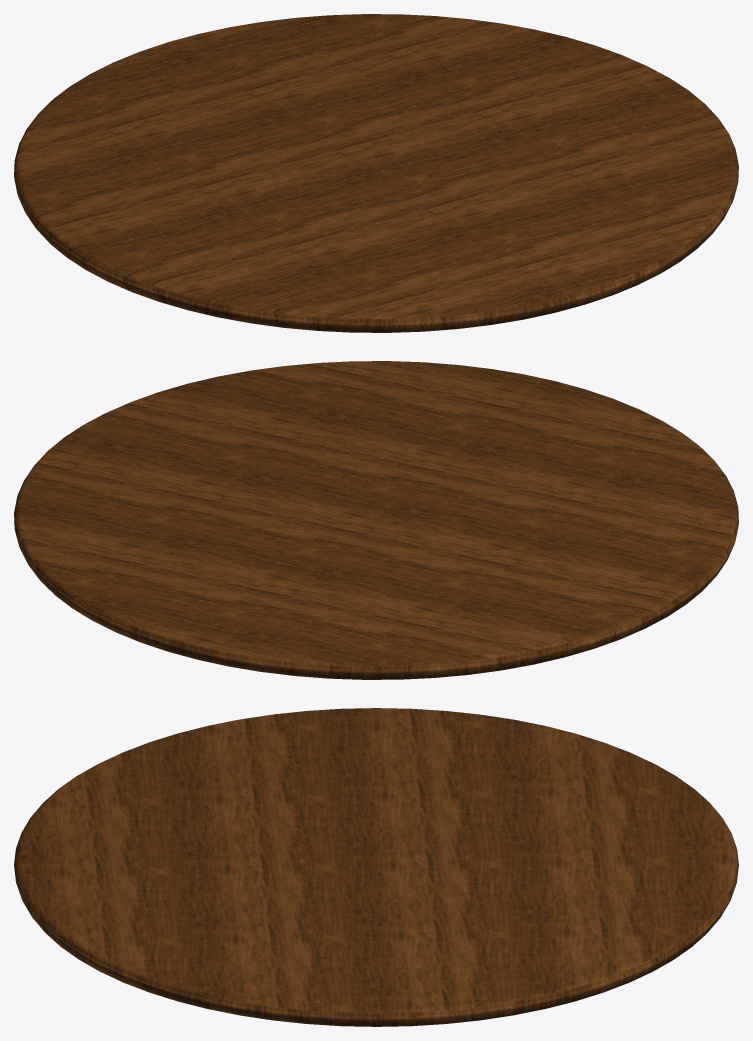
File: floor-01.glb
The picture shows the model from 3 angles, top to bottom: view 1: azimuth 30°, elevation 25°; view 2: azimuth 150°, elevation 25°; view 3: azimuth 270°, elevation 25°; orthographic projection.
Visible parts, largest first — view 1: StandTop; view 2: StandTop; view 3: StandTop.
Boxes of the visible parts, box(x1,y1,x2,y2) form: StandTop: box(14, 14, 738, 332); StandTop: box(14, 361, 738, 679); StandTop: box(14, 708, 738, 1026).
Bounding box in the file's own units: 4.39 × 0.1118 × 4.39.
Materials: 1 (1 with a texture image).
